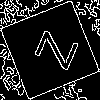Z: (25, 25, 79, 72)
